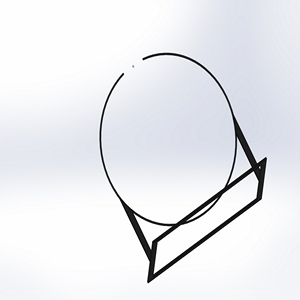circle: (97, 51, 267, 284)
